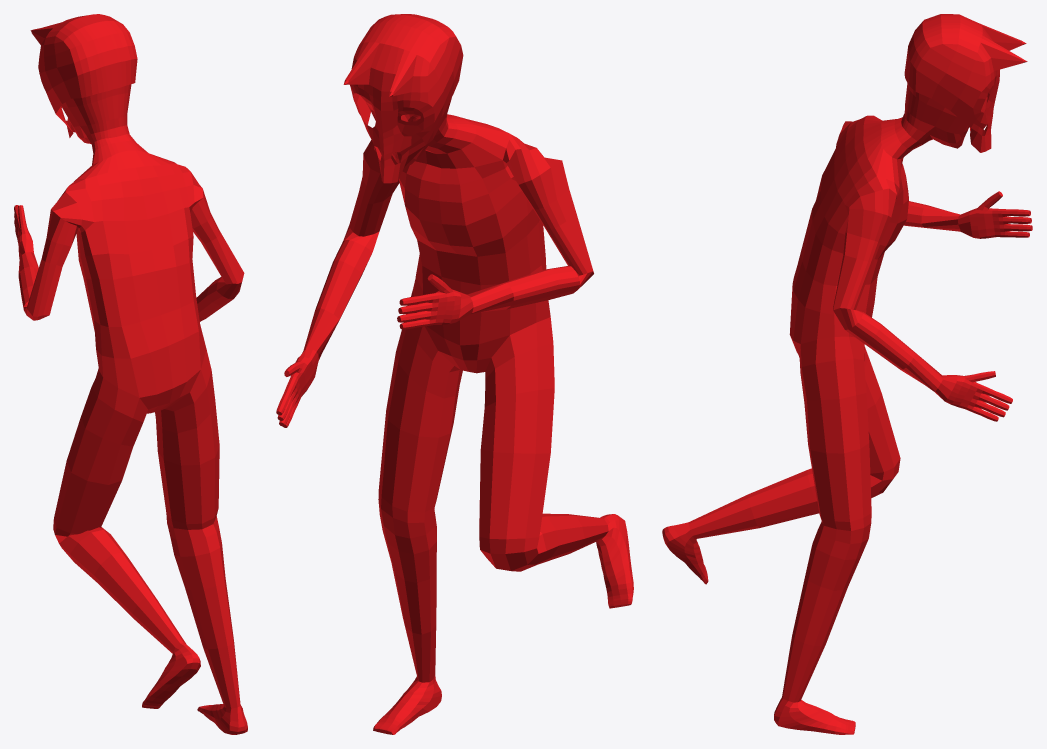
The model's file is correrE_000111.obj.
The picture shows the model from 3 angles, left to right: view 1: azimuth 30°, elevation 25°; view 2: azimuth 150°, elevation 25°; view 3: azimuth 270°, elevation 25°; orthographic projection. The views are drawn at different scales.
Visible parts, largest first — view 1: Plane.002_Plane.001; view 2: Plane.002_Plane.001; view 3: Plane.002_Plane.001.
Boxes of the visible parts, <box> form: Plane.002_Plane.001: <box>14,14,247,734</box>; Plane.002_Plane.001: <box>276,14,633,734</box>; Plane.002_Plane.001: <box>662,14,1032,734</box>.
Bounding box in the file's own units: 2.25 × 6.71 × 3.34.
